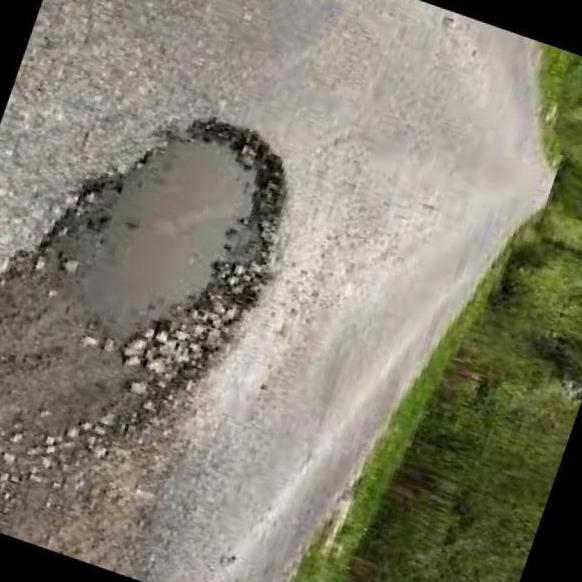pothole: (0, 55, 325, 535)
